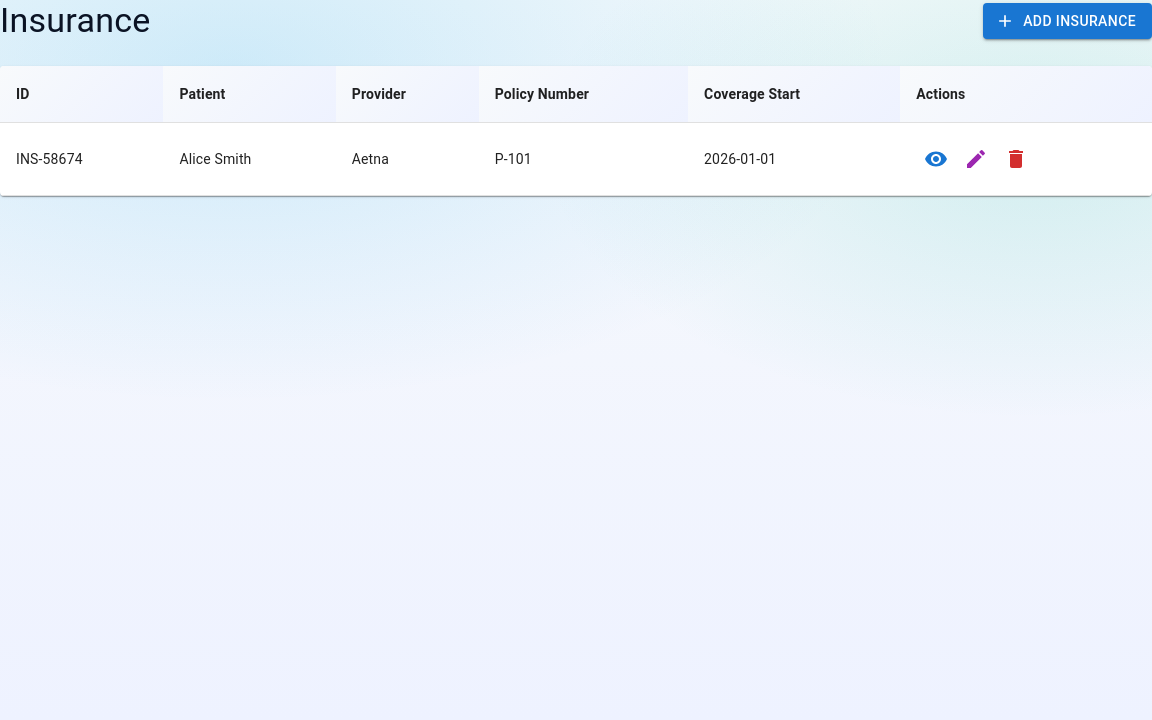
it: Insurance details dialog › opens insurance details when view icon is clicked
This screenshot has width=1152, height=720.
Check: the text "P-101" is shown, box [479,122,688,196]
Click the button named "view-insurance-details". click: coordinates (936, 159)
box: [916,139,956,179]
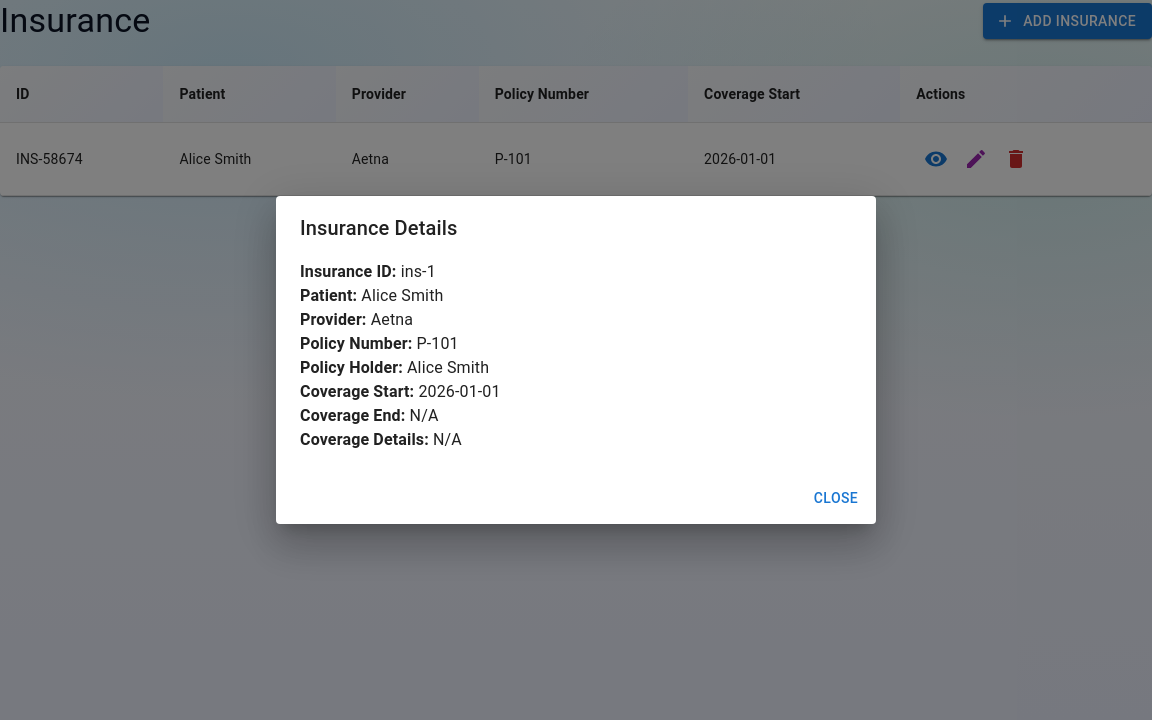
Check: the heading "Insurance Details" is shown, box [300,216,458,240]
Check: the text "Provider: Aetna" is shown, box [300,310,413,329]
